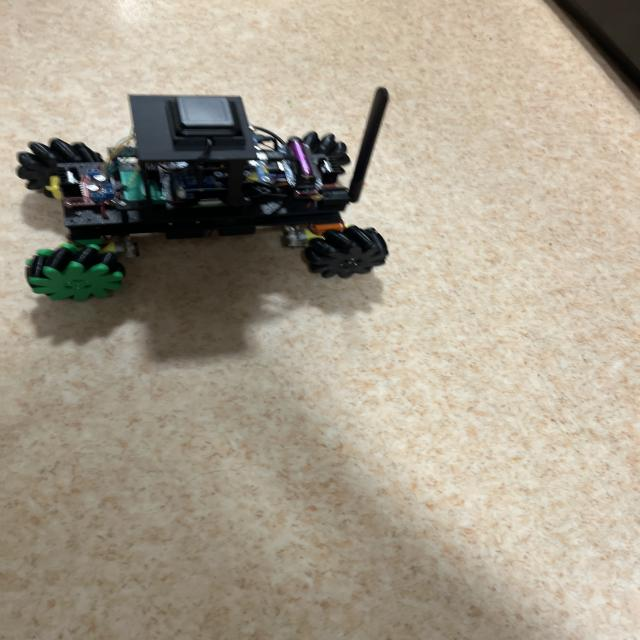robot: (17, 88, 388, 301)
